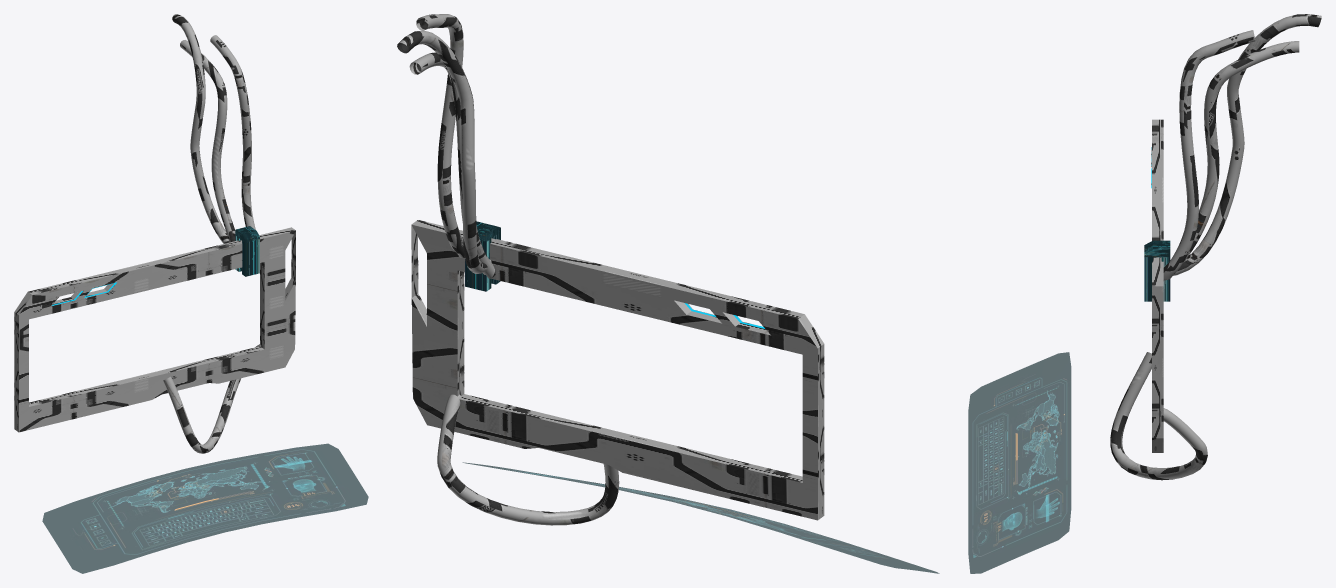
File: scfiprjt.glb
The picture shows the model from 3 angles, left to right: view 1: azimuth 30°, elevation 25°; view 2: azimuth 150°, elevation 25°; view 3: azimuth 270°, elevation 25°; orthographic projection. The views are drawn at different scales.
Parts seen in each view (by area): view 1: Plane, Plane.001, BezierCurve, Cube; view 2: Plane.001, BezierCurve, Plane, Cube; view 3: Plane, BezierCurve, Plane.001, Cube.
Boxes of the visible parts, x1,y1,x2,y2 form: Plane: (42,443,368,573); Plane.001: (14,227,295,432); BezierCurve: (163,14,261,453); Cube: (235,226,259,276); Plane.001: (411,220,824,520); BezierCurve: (397,14,619,525); Plane: (463,462,939,573); Cube: (465,221,500,291); Plane: (968,352,1071,573); BezierCurve: (1110,14,1321,480); Plane.001: (1151,119,1163,452); Cube: (1144,240,1170,301).
Size of the model in its own units: 18.51 by 24.23 by 14.8.
5 materials, 4 textured.
